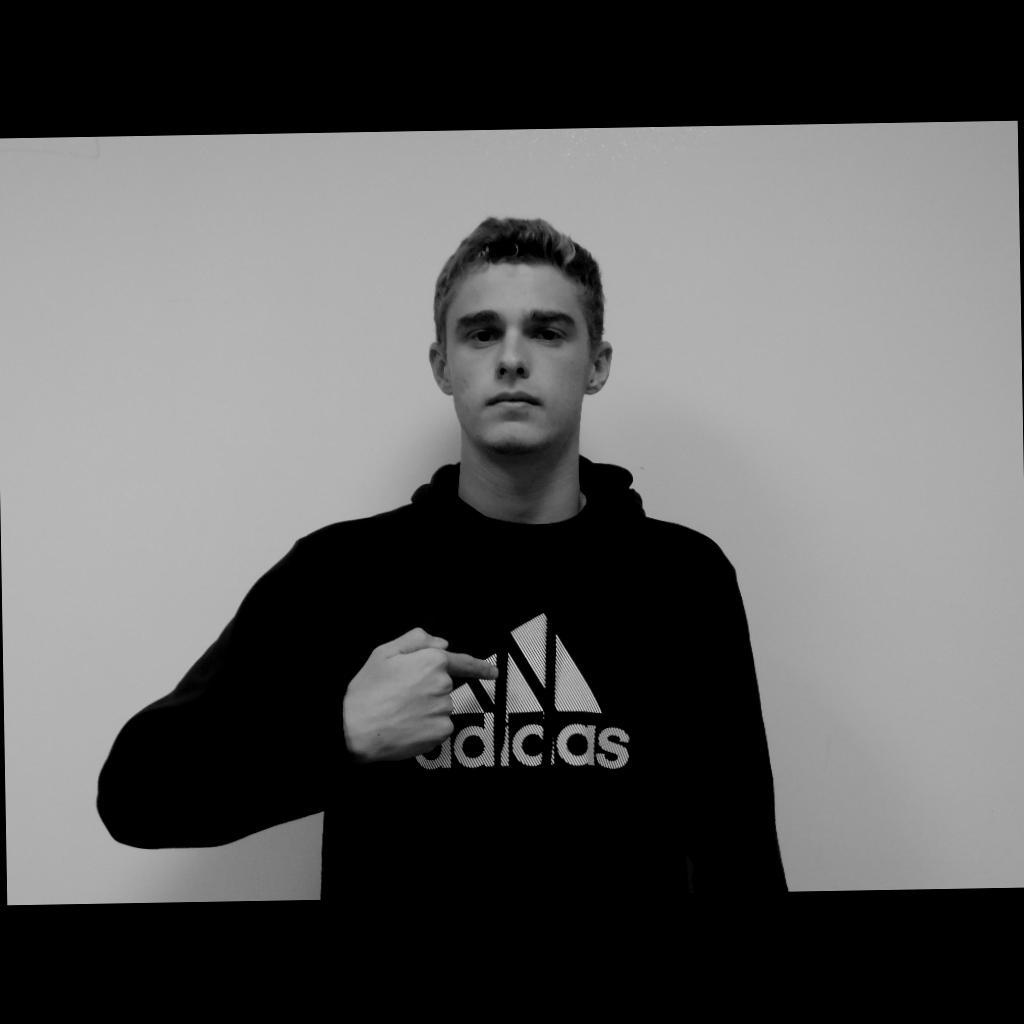I: (346, 625, 500, 762)
